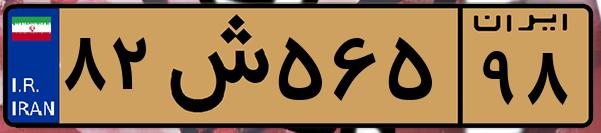2: (110, 28, 158, 98)
5: (270, 28, 330, 110), (385, 28, 445, 110)
6: (330, 28, 385, 110)
8: (57, 26, 110, 100), (525, 38, 570, 115)
9: (475, 38, 525, 113)
ش: (158, 12, 270, 120)
